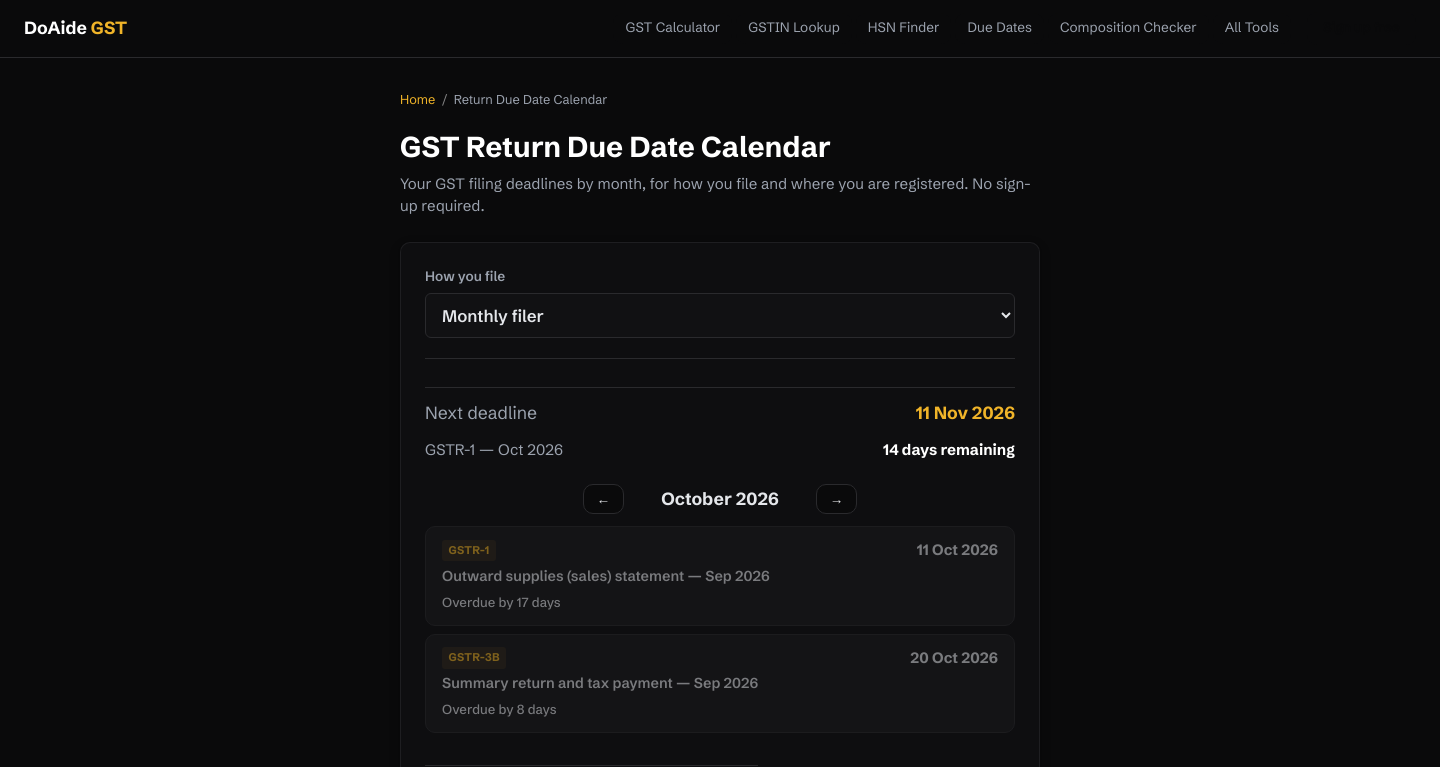
ReturnDueDateCalendarPage › gives a composition dealer CMP-08 and says when a month has nothing due
The image size is (1440, 767).
Select "Composition dealer" in the dropdown labelled "How you file". click: (720, 316)
box: [425,293,1015,338]
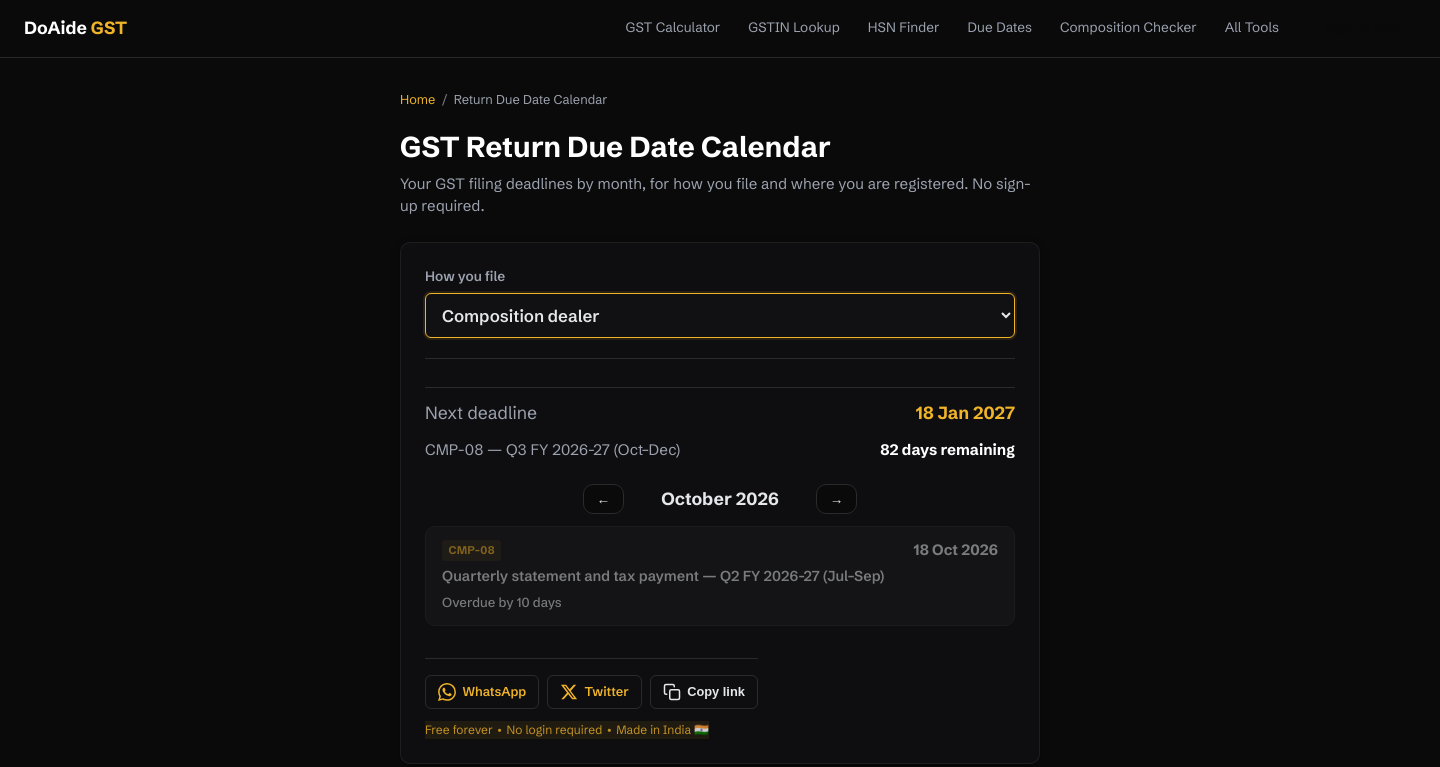
Result: the element with class "calendar-date-card" shows "18 Oct 2026" at [914,540,998,559]
Click the button named "Next month". click: click(837, 499)
box: [816,484,857,514]
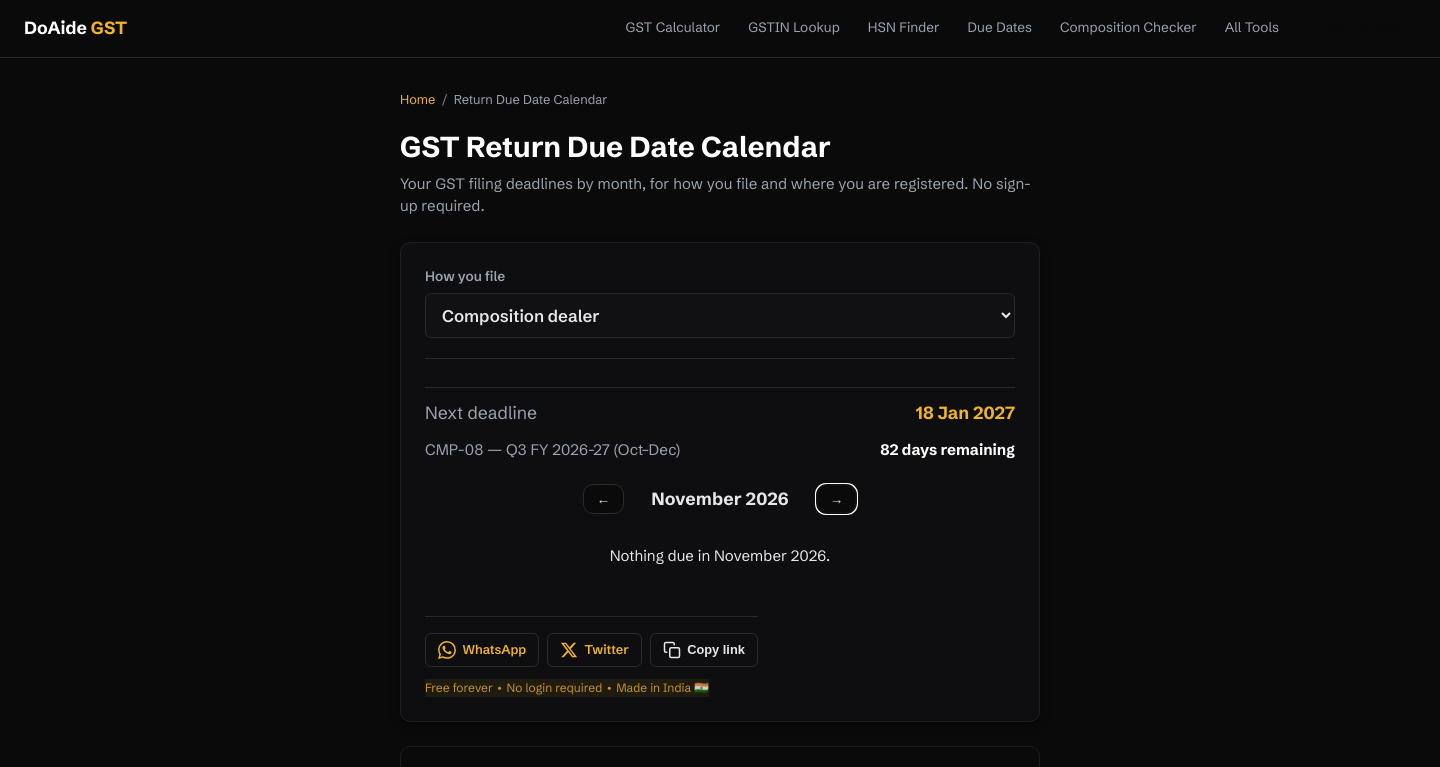
Result: the element with test id "next-deadline" shows "CMP-08" at [425,440,483,459]
Result: the text "18 Jan 2027" is shown at [916,400,1015,426]
Result: the text "Nothing due in November 2026." is shown at [610,546,830,565]
